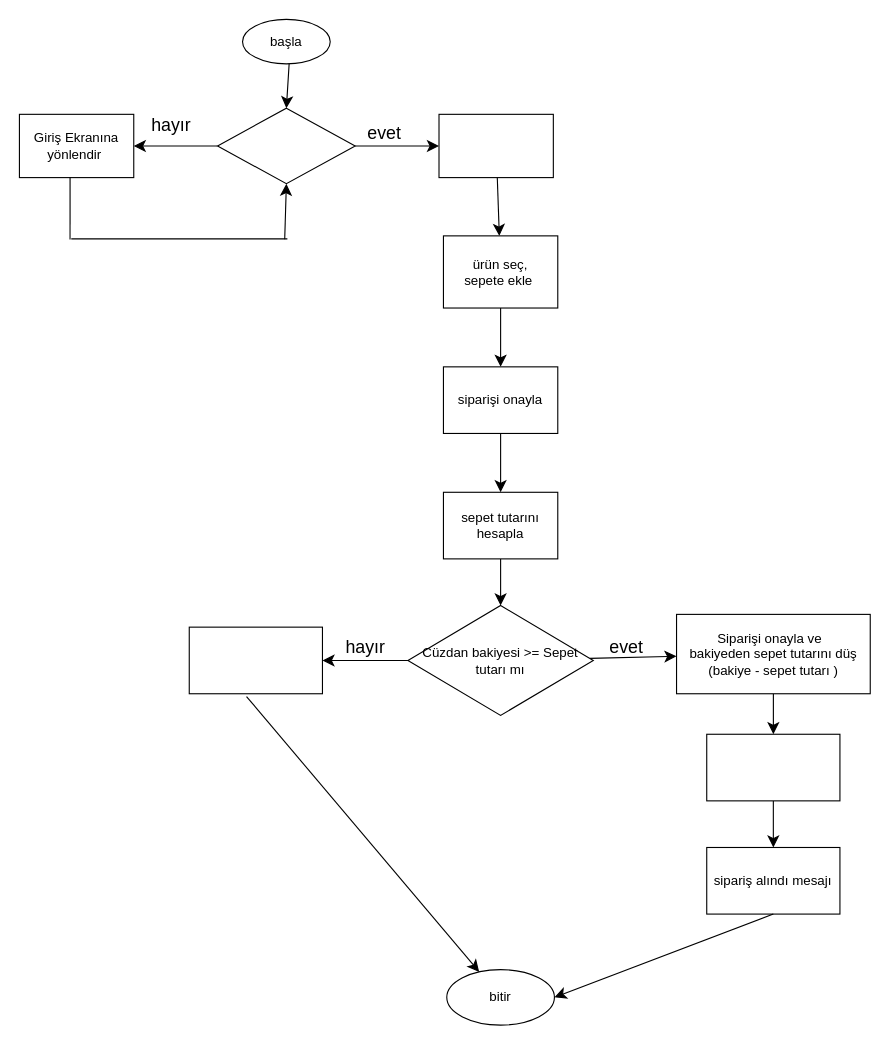
Image size: 890x1045. Some labels were removed from this diagram. The box of each missing label's shape, as (x1, y1, x2, y2) in pixels:
Bakiye yükle uyarısı: (188, 626, 322, 694)
kullanıcı giriş yaptı mı: (216, 107, 355, 184)
sunucuya sipariş paketini gönder: (706, 733, 840, 801)
ürünleri listele: (438, 113, 553, 178)
